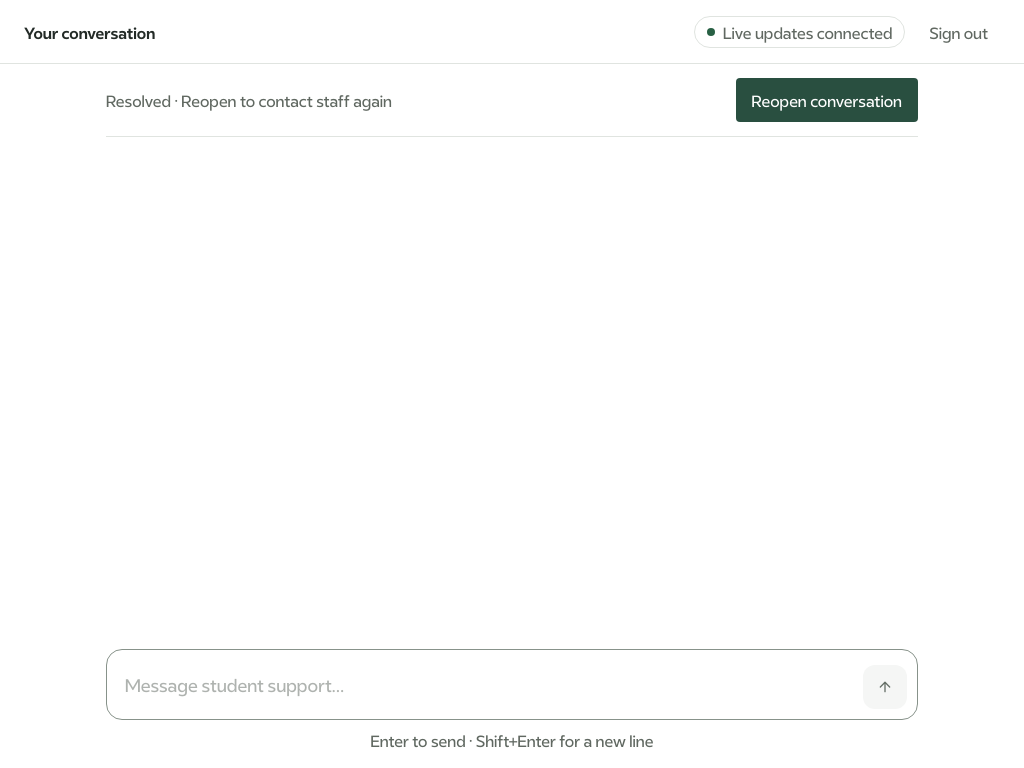
closes resolved chats and permits explicit student reopening
The width and height of the screenshot is (1024, 768).
Click the button "Reopen conversation" at (827, 100), box top-left (736, 78), bottom-right (918, 122)
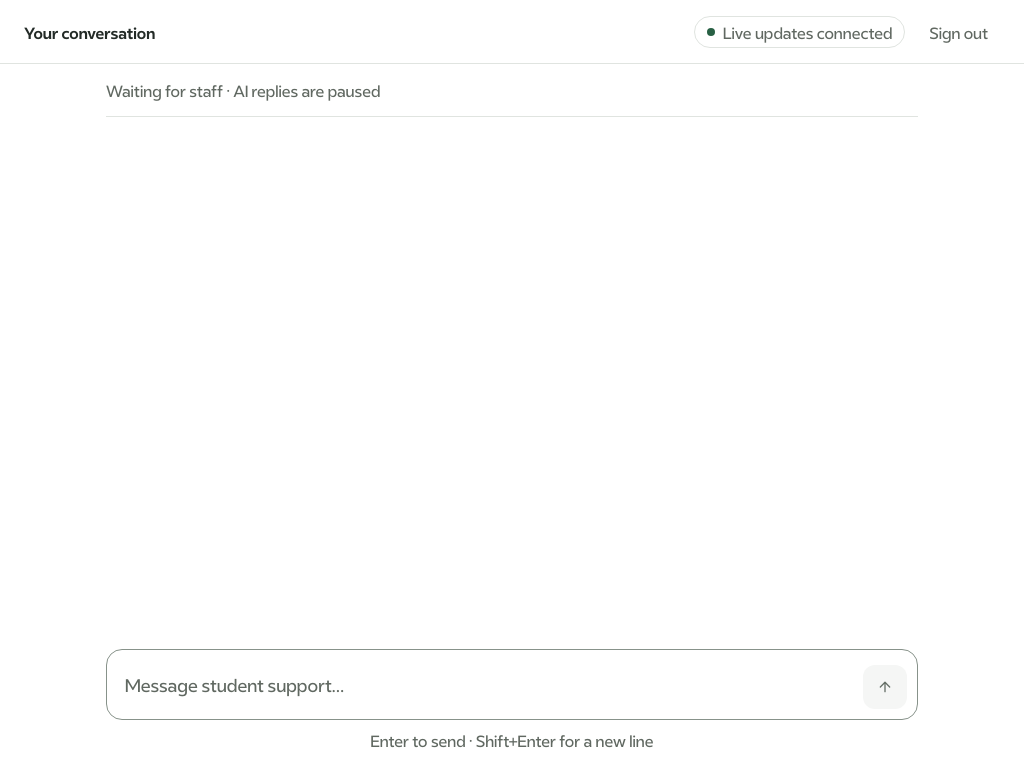
Now the text "Waiting for staff · AI replies are paused" is shown, box top-left (106, 78), bottom-right (380, 102)
